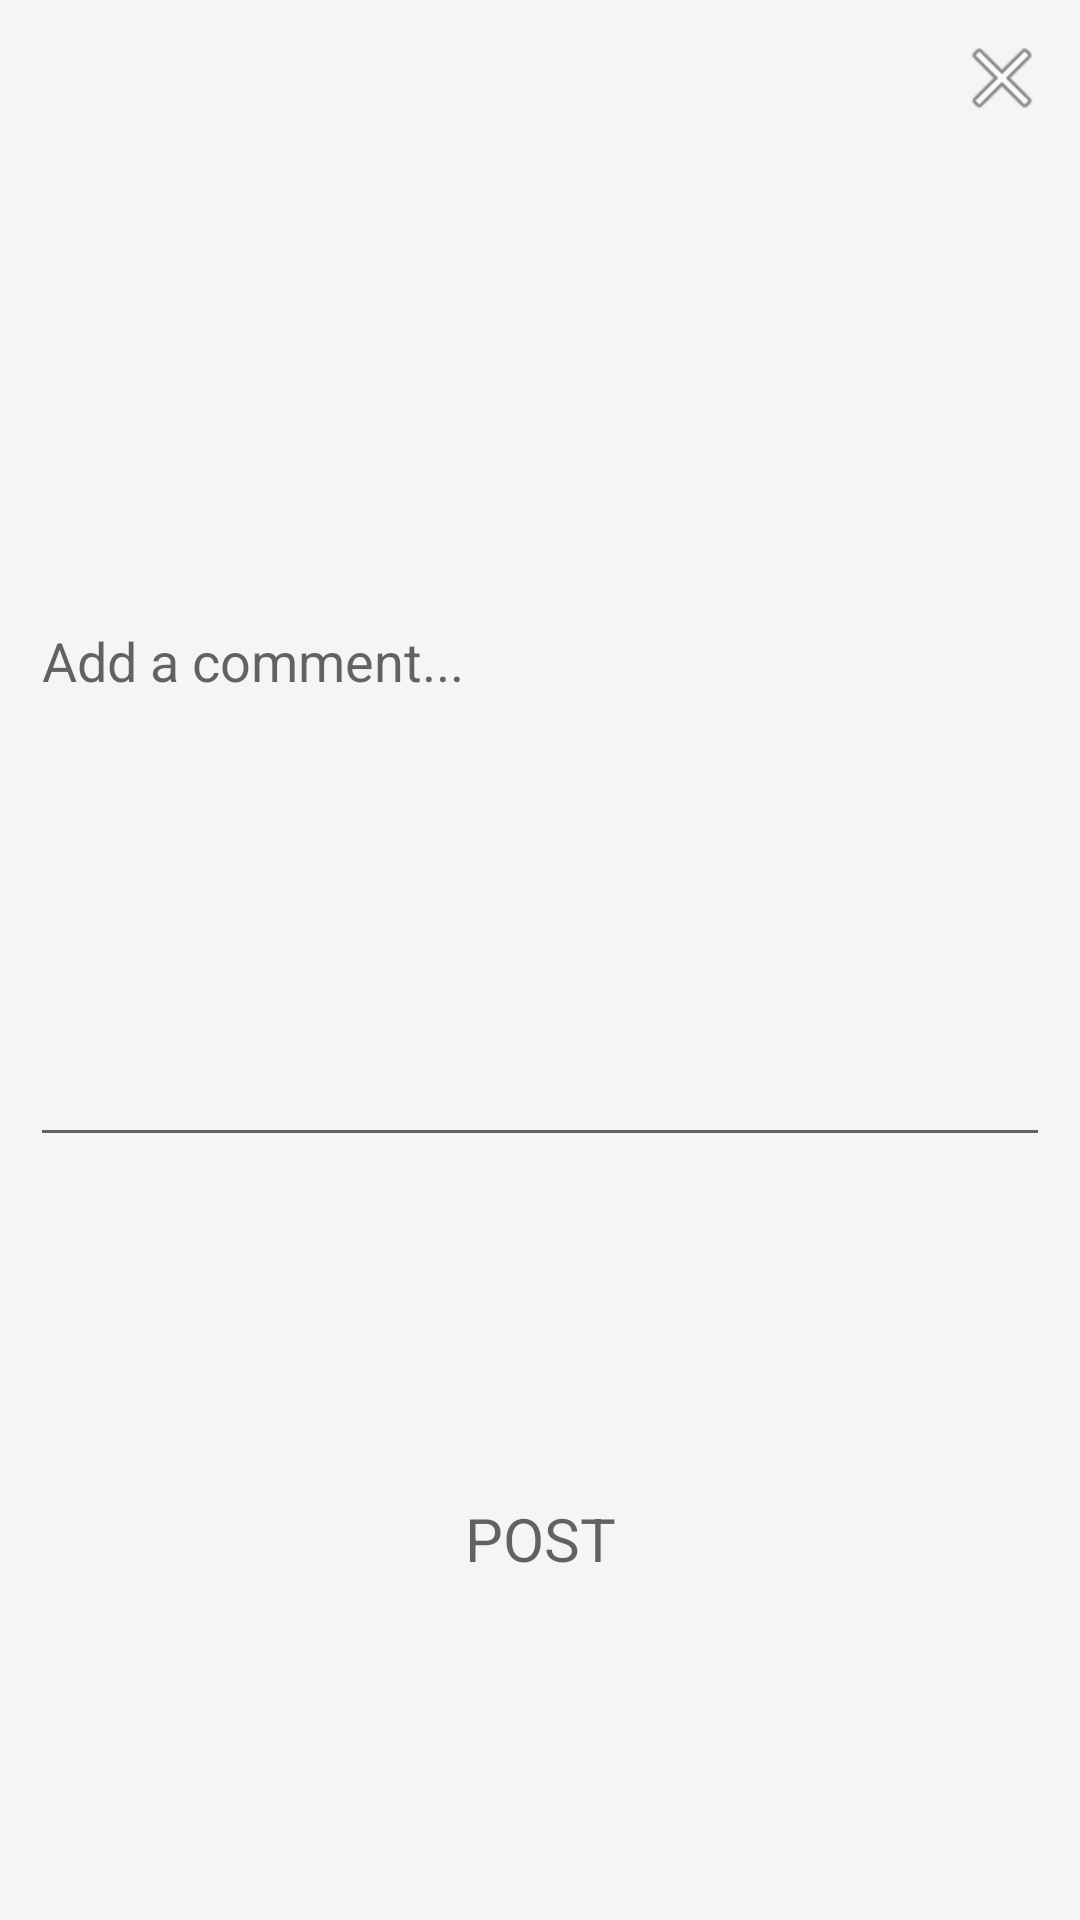

Where icons sit on this 1080*1920 app screen, as (x1, y1, x2, y2):
close clear cancel: (972, 48, 1032, 108)
